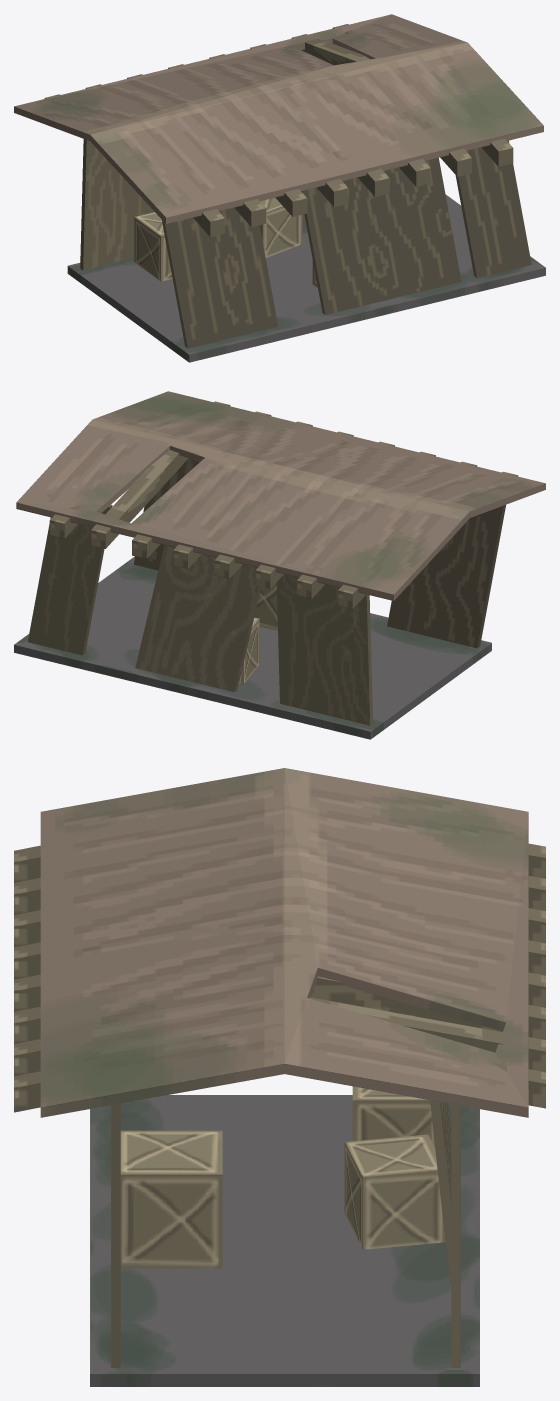
Rendered from shed.glb.
3 views of the same model, one above another, from view 1: azimuth 30°, elevation 25°; view 2: azimuth 150°, elevation 25°; view 3: azimuth 270°, elevation 25° (orthographic). The views are drawn at different scales.
Parts seen in each view (by area): view 1: Shed; view 2: Shed; view 3: Shed.
Part boxes in pixels (box(x1,y1,x2,y2)): Shed: box(14, 14, 545, 362); Shed: box(14, 391, 545, 739); Shed: box(14, 768, 545, 1386).
Bounding box in the file's own units: 1.92 × 0.8972 × 1.4.
Materials: 1 (1 with a texture image).
